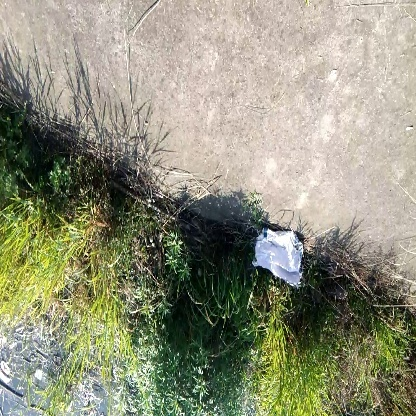milk-box: (251, 216, 307, 289)
